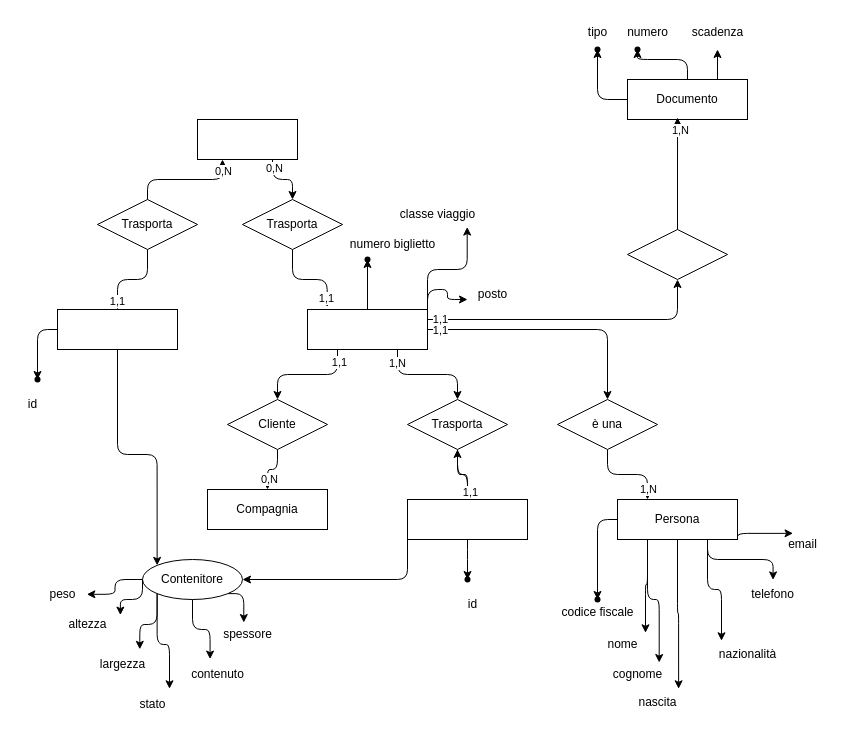
The diagram is 844 pixels wide and 736 high, and some of its shapes have lost their labels. The box of each missing label's shape, as (x1, y1, x2, y2) in pixels:
Bagaglio: (406, 498, 528, 540)
Identifica: (626, 228, 728, 280)
Pacco: (56, 308, 178, 350)
Passeggero: (306, 308, 428, 350)
Volo: (196, 118, 298, 160)
